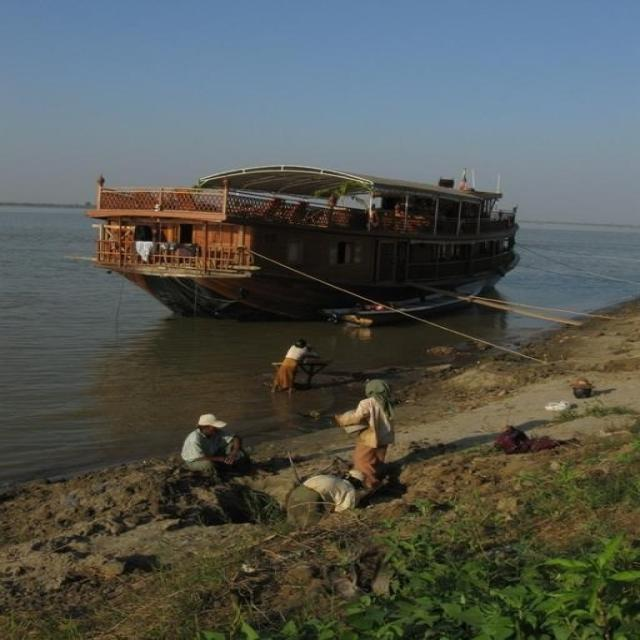boat: (72, 157, 536, 320), (307, 284, 508, 316)
